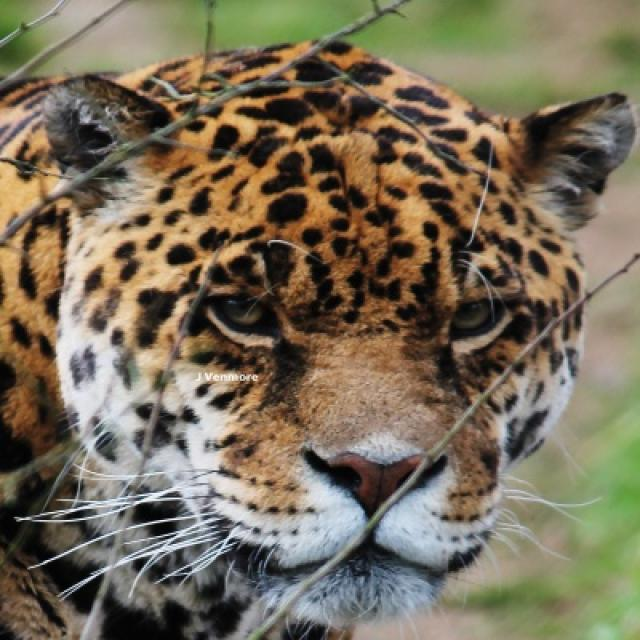not_pig: (0, 35, 638, 638)
